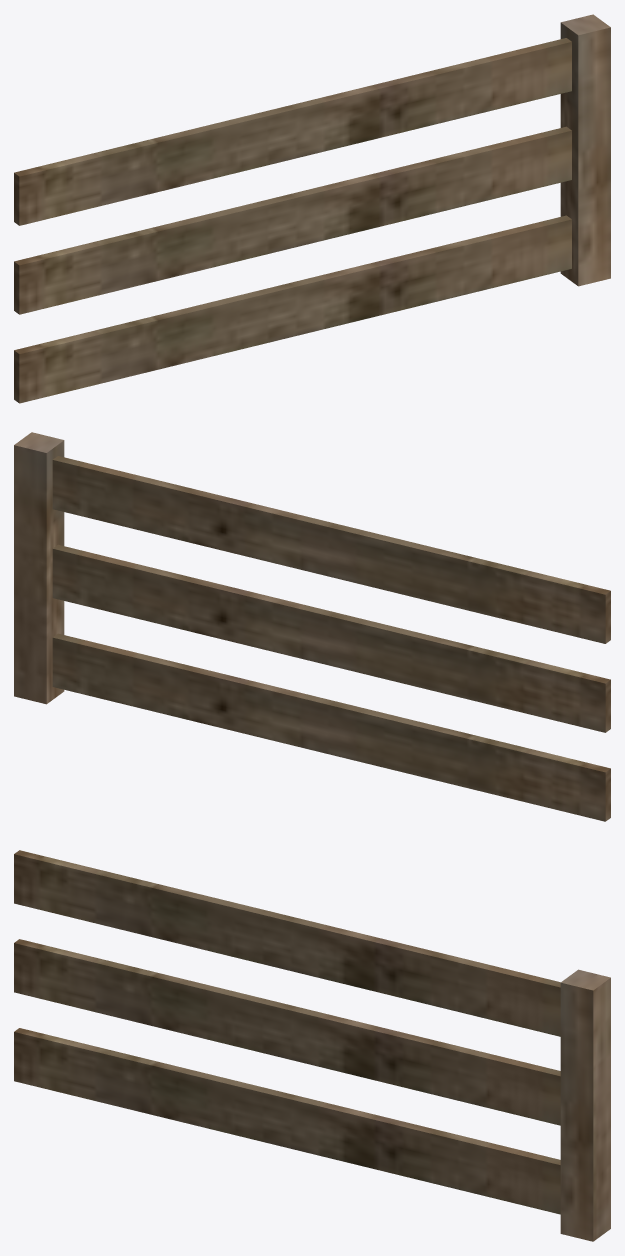
Rendered from fence1.fbx.
3 renders of one model, top to bottom at view 1: azimuth 30°, elevation 25°; view 2: azimuth 150°, elevation 25°; view 3: azimuth 330°, elevation 25°, orthographic.
Parts seen in each view (by area): view 1: fence; view 2: fence; view 3: fence.
Part boxes in pixels (box(x1,y1,x2,y2)): fence: box(14, 14, 610, 403); fence: box(14, 432, 610, 821); fence: box(14, 850, 610, 1241).
Size of the model in its own units: 390 by 160 by 20.49.
1 material, 1 textured.
